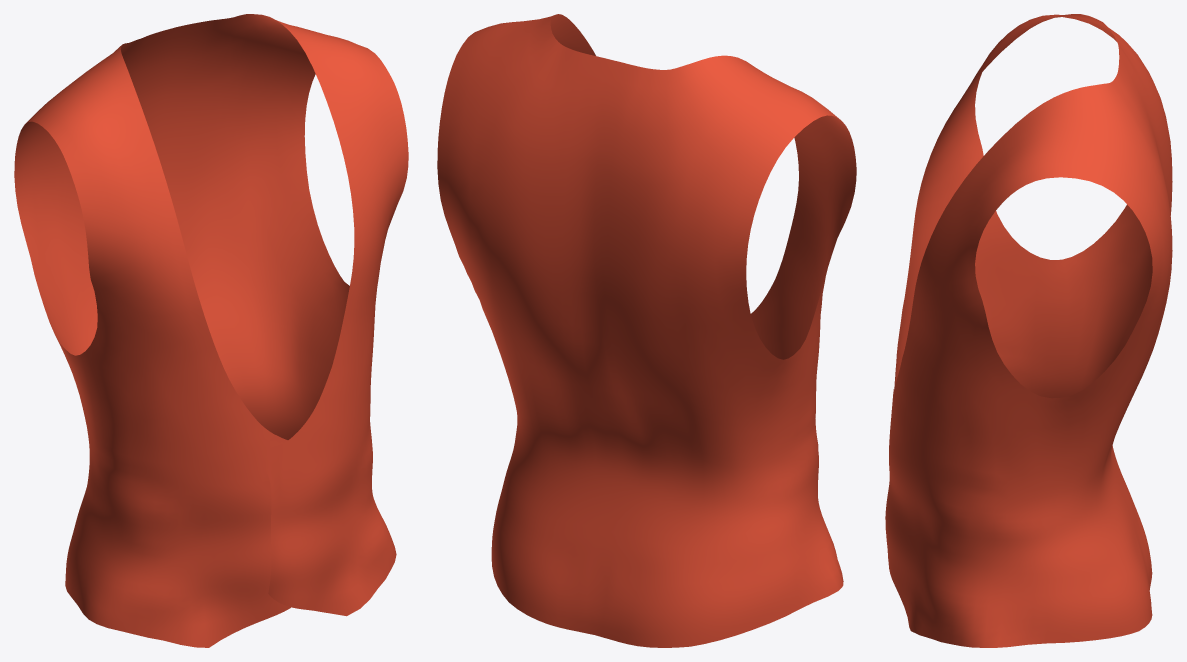
File: CarlosSA_Waistcoat_02.fbx
3 views of the same model, side by side, from view 1: azimuth 30°, elevation 25°; view 2: azimuth 150°, elevation 25°; view 3: azimuth 270°, elevation 25° (orthographic). The views are drawn at different scales.
Visible parts, largest first — view 1: SM_CarlosSA_Waistcoat_StaticPart_01; view 2: SM_CarlosSA_Waistcoat_StaticPart_01; view 3: SM_CarlosSA_Waistcoat_StaticPart_01.
Part boxes in pixels (bbox=[...]): SM_CarlosSA_Waistcoat_StaticPart_01: bbox=[14, 14, 408, 647]; SM_CarlosSA_Waistcoat_StaticPart_01: bbox=[437, 14, 856, 647]; SM_CarlosSA_Waistcoat_StaticPart_01: bbox=[885, 14, 1172, 647].
Size of the model in its own units: 37.55 by 58.73 by 28.06.
